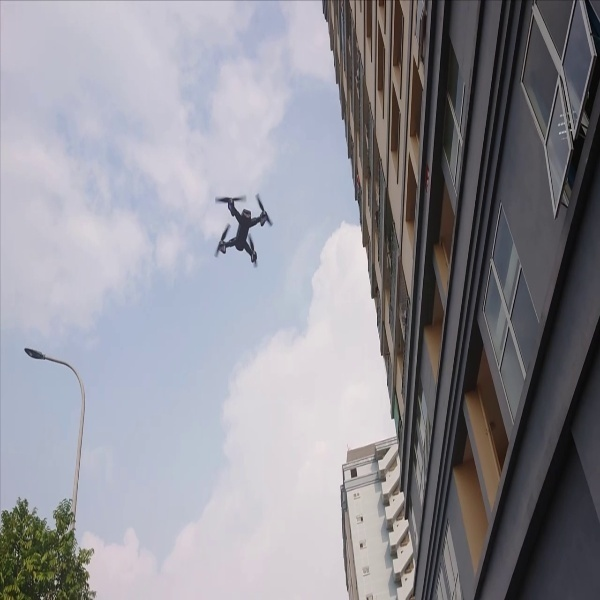drone: (207, 185, 275, 269)
